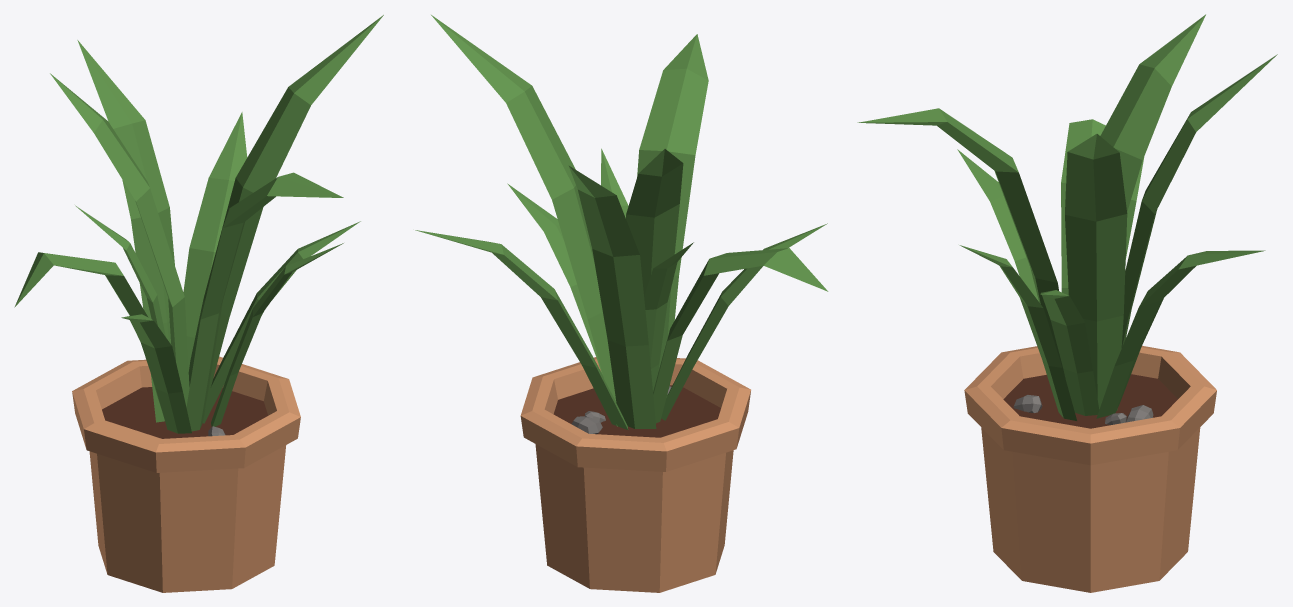
File: Houseplant.fbx
3 renders of one model, left to right at view 1: azimuth 30°, elevation 25°; view 2: azimuth 150°, elevation 25°; view 3: azimuth 270°, elevation 25°, orthographic. The views are drawn at different scales.
Visible parts, largest first — view 1: Houseplant; view 2: Houseplant; view 3: Houseplant.
Boxes of the visible parts, <box> form: Houseplant: <box>14,15,383,592</box>; Houseplant: <box>415,15,828,592</box>; Houseplant: <box>857,14,1277,592</box>.
Size of the model in its own units: 0.8731 by 1.07 by 0.7804.
